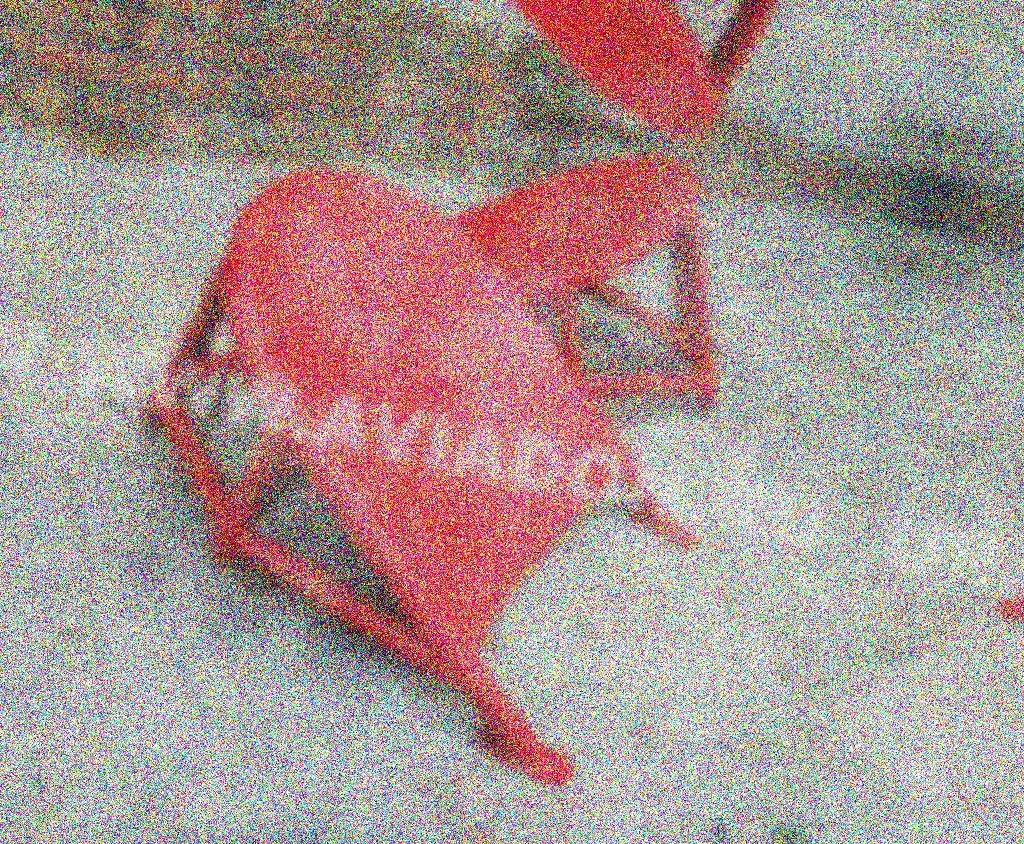chock: (84, 139, 759, 803), (423, 115, 772, 415), (479, 0, 828, 157)
